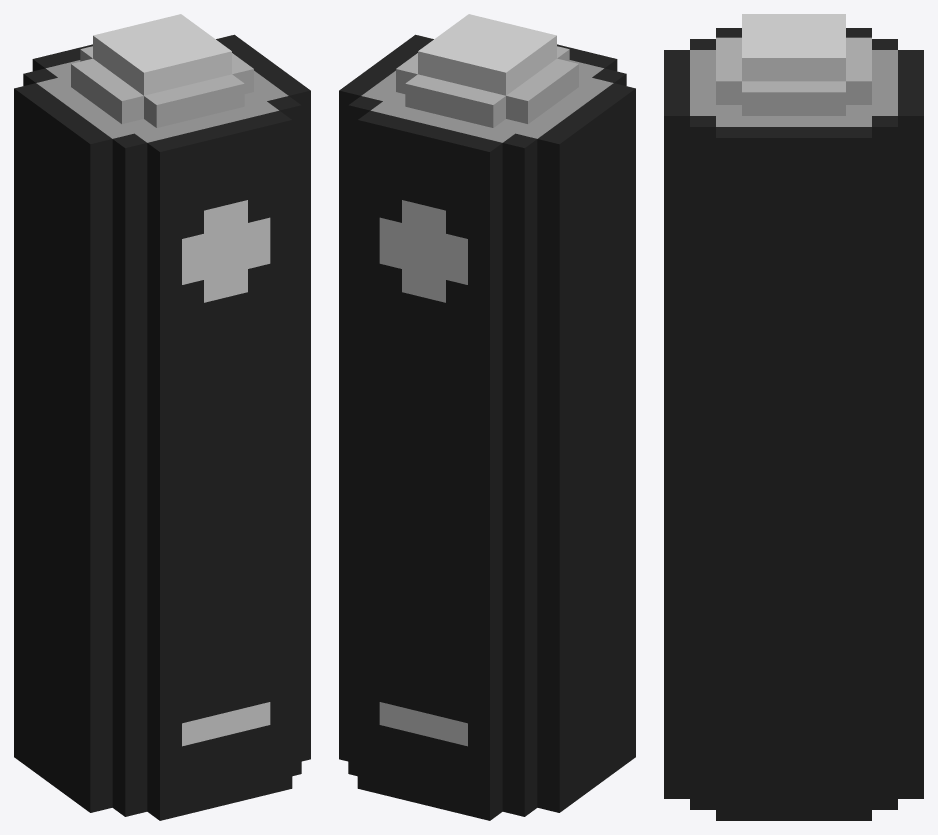
Rendered from battery_2_1.2b.obj.
The picture shows the model from 3 angles, left to right: view 1: azimuth 30°, elevation 25°; view 2: azimuth 150°, elevation 25°; view 3: azimuth 270°, elevation 25°; orthographic projection. The views are drawn at different scales.
Size of the model in its own units: 1 by 3.1 by 1.
Materials: 1 (1 with a texture image).
